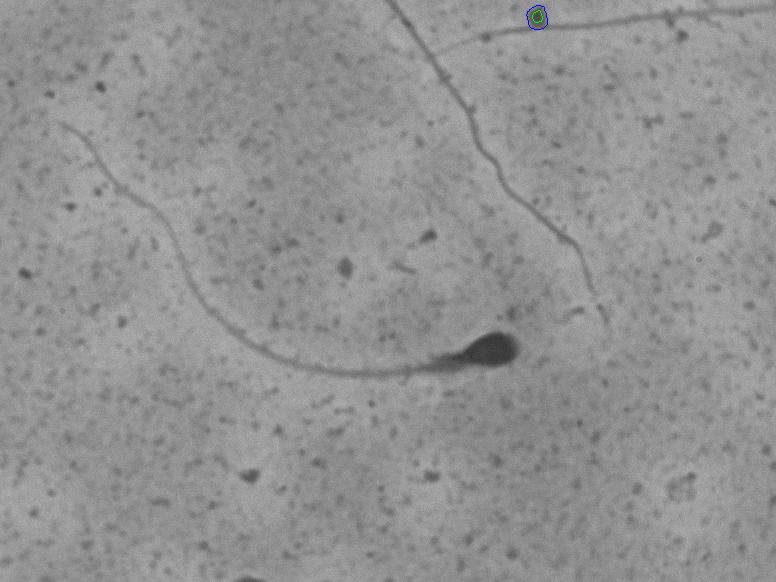Abnormal: (41, 148, 545, 428)
